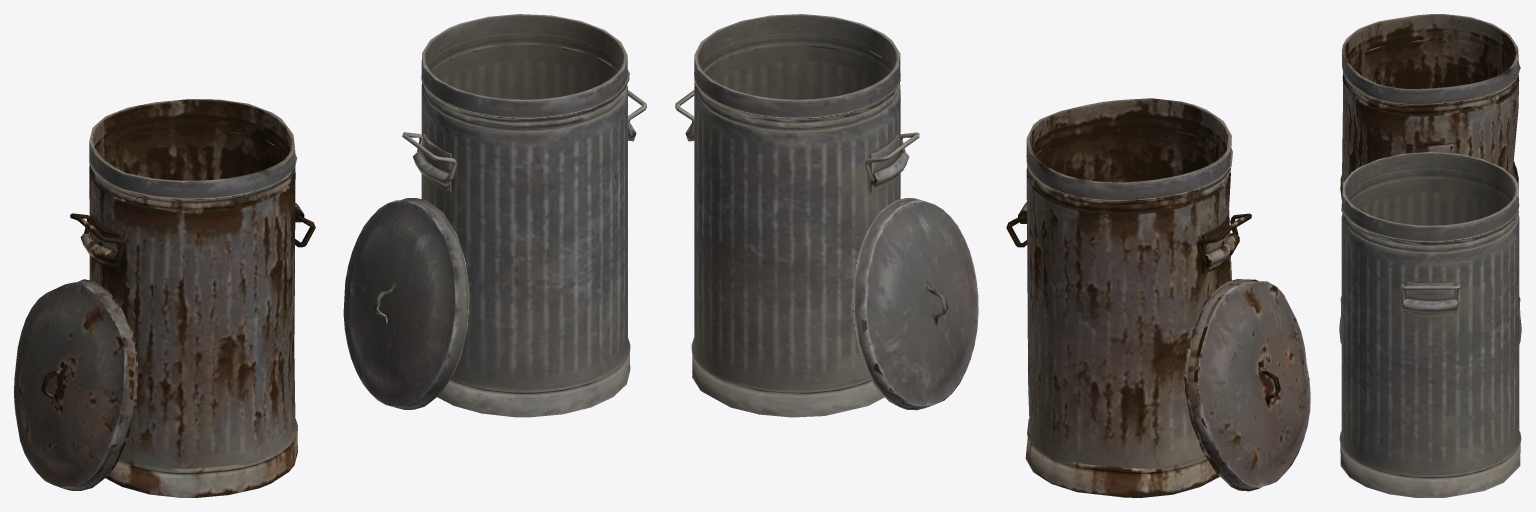
Rendered from trashcan.glb.
3 views of the same model, side by side, from view 1: azimuth 30°, elevation 25°; view 2: azimuth 150°, elevation 25°; view 3: azimuth 270°, elevation 25° (orthographic). The views are drawn at different scales.
Parts seen in each view (by area): view 1: metal_trash_can, metal_trash_can_rust, metal_trash_can_lid, metal_trash_can_rust_lid; view 2: metal_trash_can, metal_trash_can_rust, metal_trash_can_lid, metal_trash_can_rust_lid; view 3: metal_trash_can, metal_trash_can_rust, metal_trash_can_handle_right.
Part boxes in pixels (box(x1,y1,x2,y2)): metal_trash_can: box(413, 14, 636, 417); metal_trash_can_rust: box(80, 99, 304, 497); metal_trash_can_lid: box(343, 198, 469, 409); metal_trash_can_rust_lid: box(14, 279, 137, 490); metal_trash_can: box(685, 14, 909, 417); metal_trash_can_rust: box(1018, 98, 1239, 497); metal_trash_can_lid: box(852, 198, 978, 410); metal_trash_can_rust_lid: box(1184, 279, 1310, 491); metal_trash_can: box(1339, 152, 1521, 497); metal_trash_can_rust: box(1340, 14, 1520, 317); metal_trash_can_handle_right: box(1400, 284, 1460, 304).
Bounding box in the file's own units: 1.78 × 0.9062 × 0.5543.
Materials: 2 (2 with a texture image).
